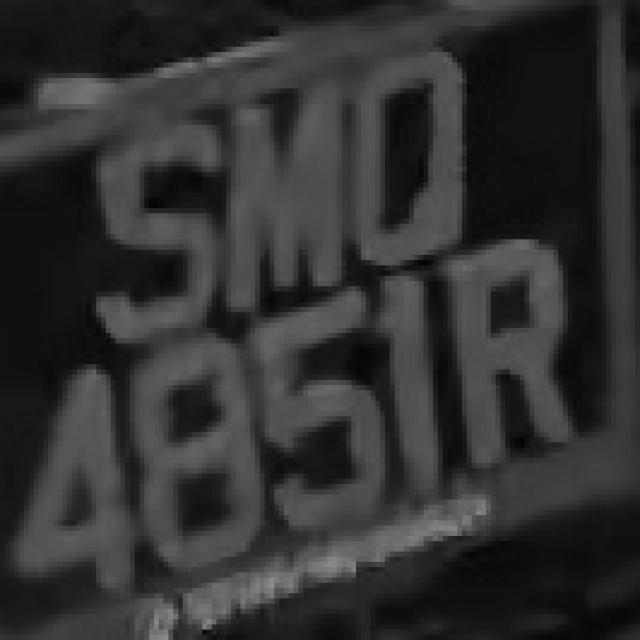1: (366, 240, 448, 526)
4: (5, 364, 135, 604)
5: (236, 297, 390, 567)
8: (116, 338, 255, 588)
M: (217, 62, 371, 302)
Q: (337, 47, 481, 270)
R: (433, 229, 578, 484)
S: (82, 99, 231, 343)
